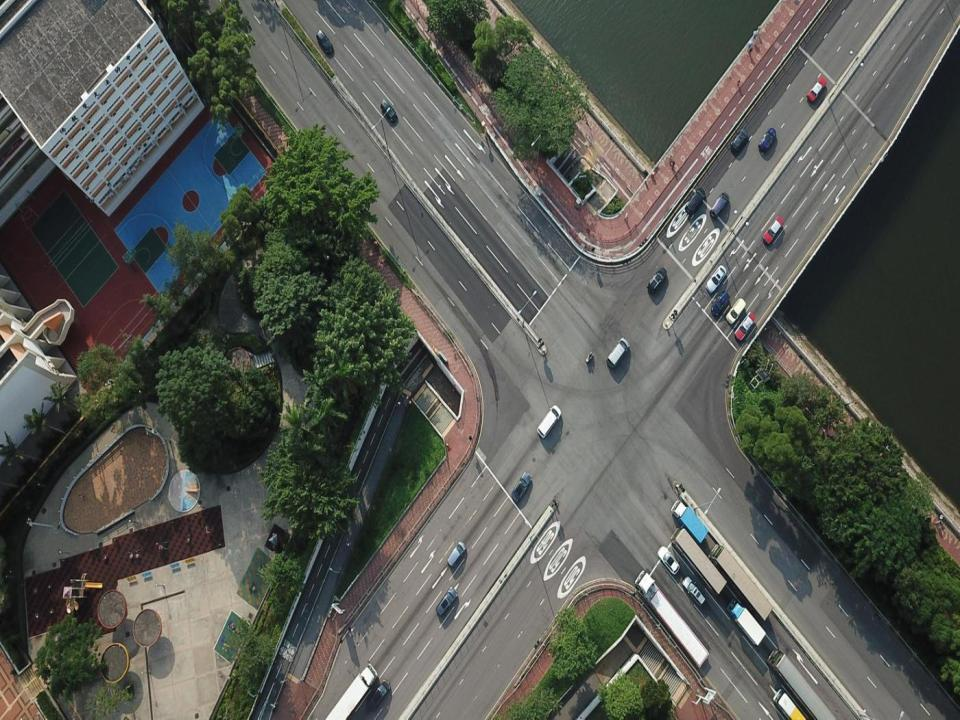bus: (708, 543, 774, 622), (766, 648, 837, 719), (670, 526, 727, 597), (772, 688, 807, 719)
car: (366, 679, 391, 712), (682, 574, 706, 606), (734, 310, 756, 342), (435, 586, 458, 616), (511, 470, 531, 504), (762, 215, 784, 245), (657, 546, 680, 574), (684, 187, 706, 216), (646, 266, 668, 294), (705, 264, 727, 292), (725, 297, 747, 324), (806, 75, 827, 103), (709, 191, 730, 218), (446, 540, 466, 568), (710, 290, 730, 317), (758, 126, 777, 153), (316, 28, 334, 54), (730, 127, 748, 152), (380, 99, 398, 122)
truck: (634, 569, 710, 668), (325, 660, 379, 719), (726, 598, 767, 646), (671, 499, 709, 544)
van: (536, 405, 562, 439), (606, 337, 630, 369)
